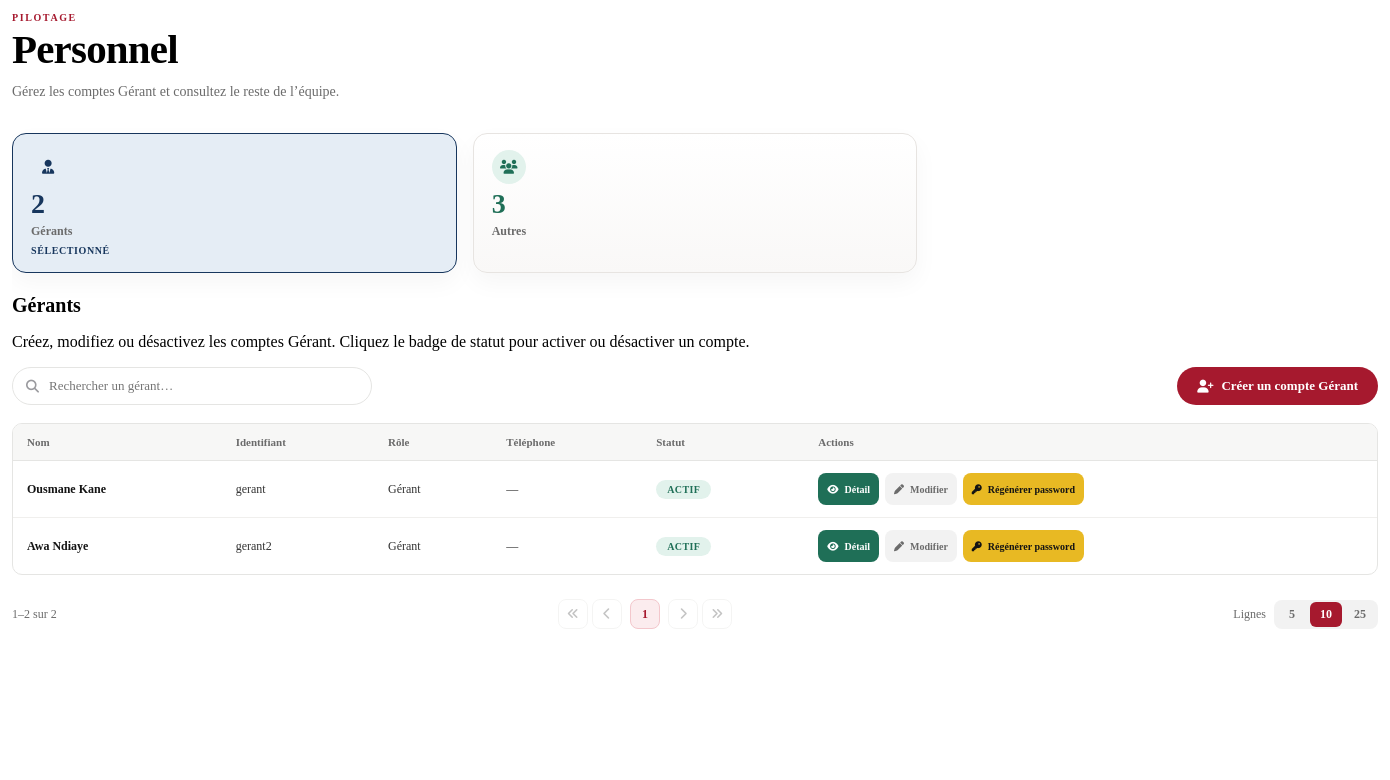
it: Page Personnel (Manager) › bascule vers le groupe Autres : Cuisine/Livreur/Vendeur en lecture seule, sans les Gérants
The width and height of the screenshot is (1390, 780).
Expected: the element "Gérants" is shown, [12,293,1378,629]
Click the tab "3 Autres": (509, 167) [473,133,917,273]
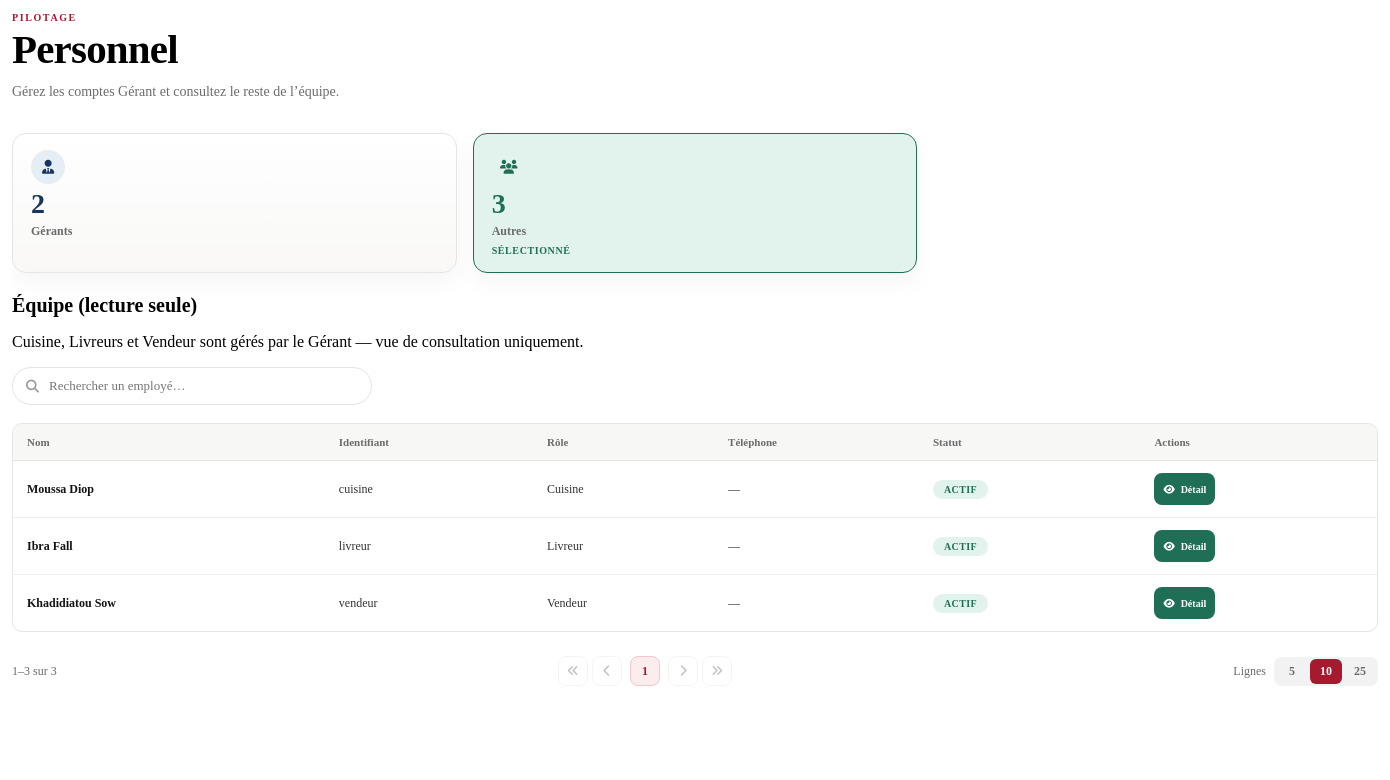
Now the text "Moussa Diop" is shown, box [27,482,94,496]
Now the text "Ibra Fall" is shown, box [27,539,73,553]
Now the text "Khadidiatou Sow" is shown, box [27,596,116,610]
